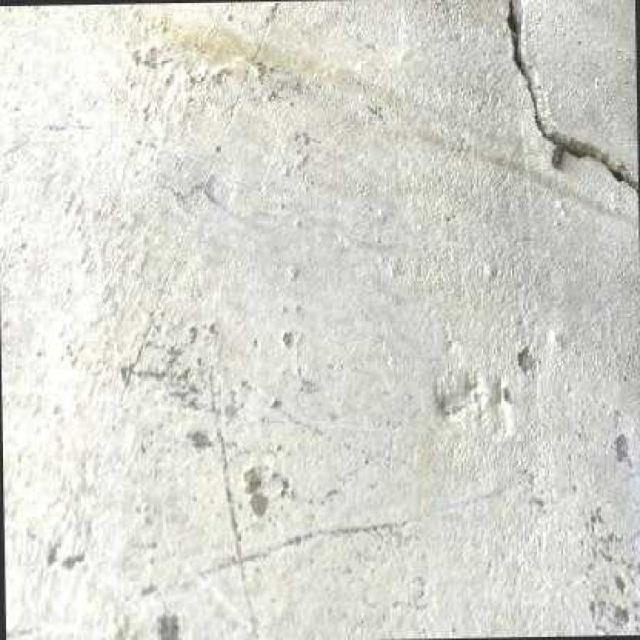D00: (506, 0, 638, 198)
